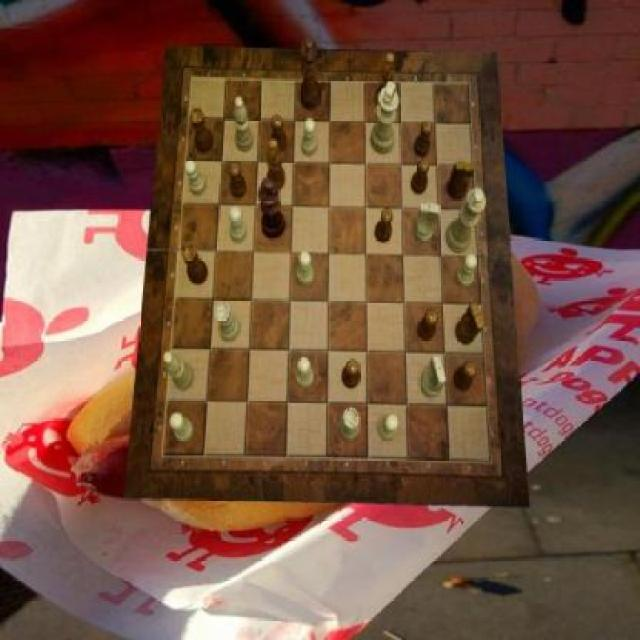bishop: (376, 52, 396, 110), (266, 138, 286, 191)
black-bishop: (259, 177, 286, 238)
black-king: (457, 301, 486, 344), (448, 162, 475, 200)
black-knight: (417, 309, 438, 342), (454, 362, 477, 392), (228, 162, 247, 198), (411, 158, 430, 194), (270, 114, 288, 152), (414, 120, 431, 158), (375, 209, 393, 243), (342, 360, 359, 389)
black-pawn: (300, 37, 323, 111)
black-queen: (190, 108, 214, 154), (182, 244, 208, 284)
black-rook: (164, 351, 194, 391), (234, 97, 254, 151)
white-bishop: (371, 81, 398, 154)
white-king: (420, 357, 446, 398), (415, 203, 440, 245)
white-knight: (455, 254, 478, 288), (185, 160, 207, 195), (170, 414, 194, 443), (302, 118, 318, 157), (297, 251, 314, 287), (229, 206, 246, 242), (295, 357, 313, 389), (378, 414, 398, 439)
white-pawn: (446, 188, 487, 253)
white-queen: (215, 303, 240, 342), (338, 408, 361, 442)
